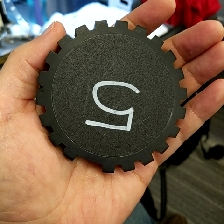gear: (34, 19, 189, 175)
missing: (62, 144, 116, 175)
